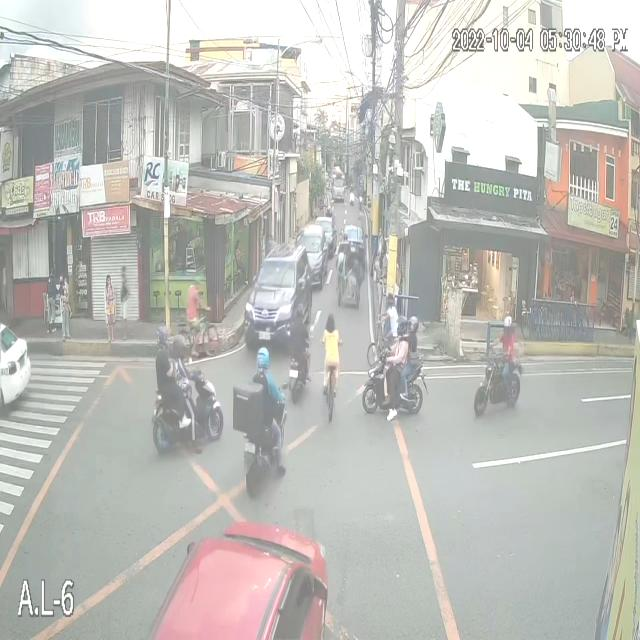Full-Faced: (251, 346, 269, 378), (405, 311, 417, 338), (505, 308, 514, 339), (158, 322, 170, 344), (175, 338, 189, 356), (390, 318, 402, 336), (338, 237, 347, 253)
Half-Faced: (295, 295, 307, 320)
Not-Wearing-Helmet: (323, 310, 335, 338)
